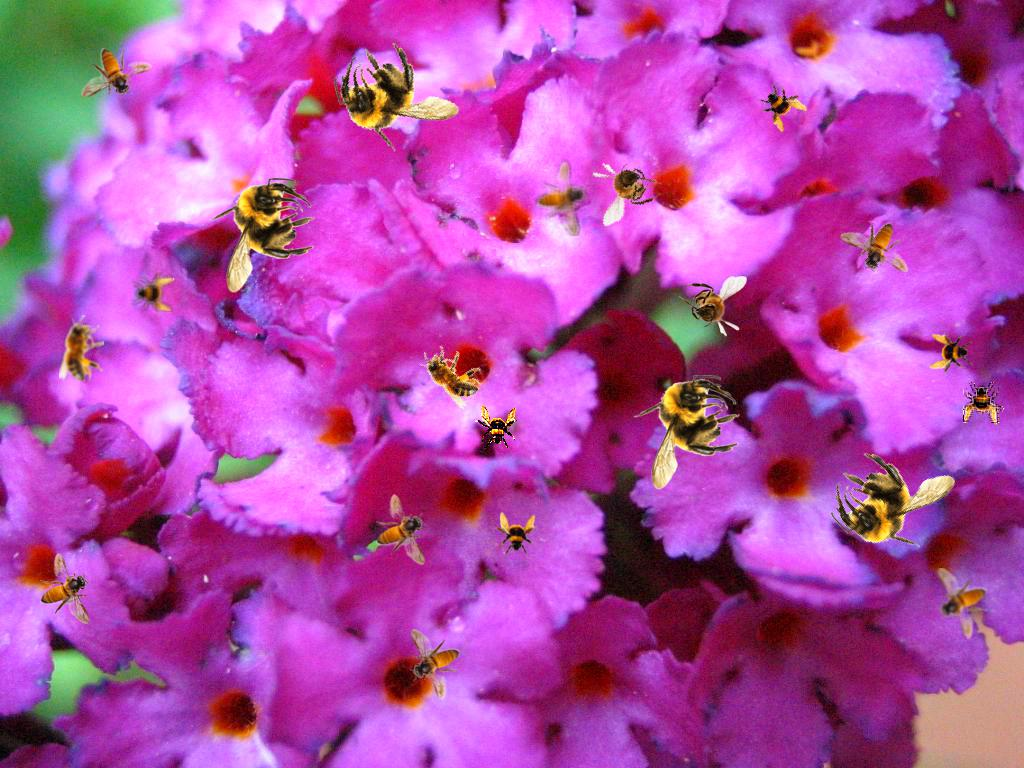Bee: (815, 420, 972, 577), (327, 29, 466, 164), (633, 375, 740, 490), (208, 178, 315, 293), (582, 144, 671, 228), (838, 205, 922, 292), (410, 336, 490, 411), (529, 155, 597, 238), (677, 276, 747, 337), (750, 73, 814, 137), (937, 568, 987, 639), (40, 553, 90, 624), (376, 494, 426, 565), (81, 48, 152, 98), (410, 629, 460, 700), (59, 315, 104, 381), (131, 270, 175, 314), (961, 381, 1005, 425), (929, 332, 973, 376), (493, 512, 537, 556), (474, 405, 518, 449)
